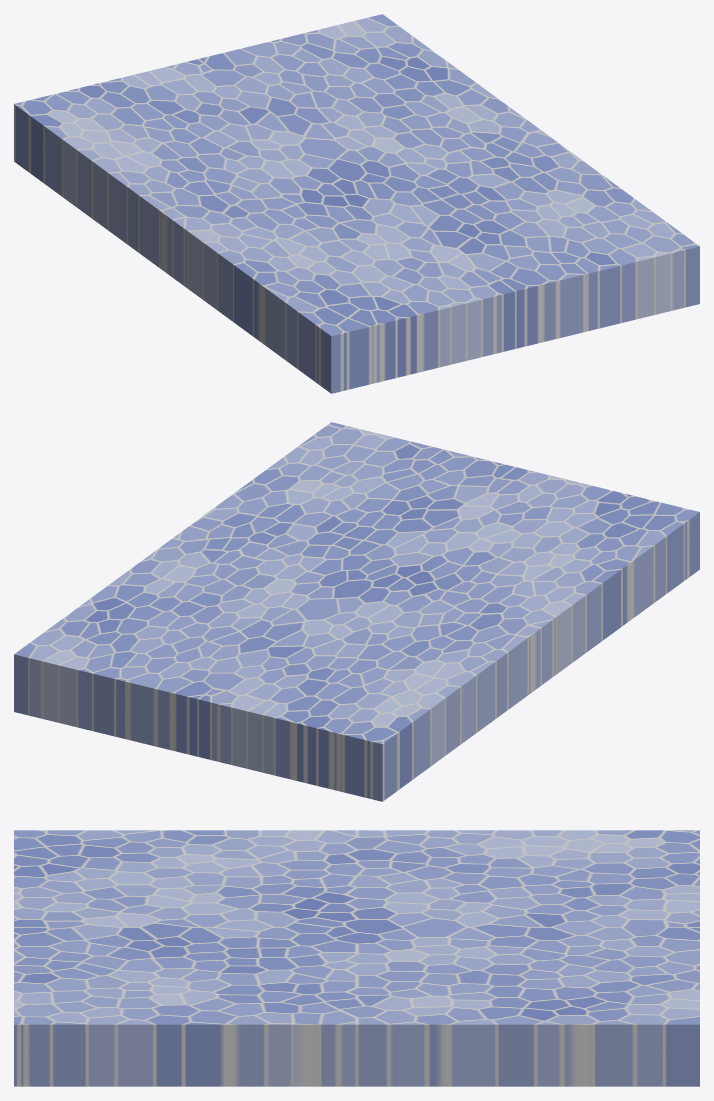
Rendered from ground.fbx.
3 views of the same model, one above another, from view 1: azimuth 30°, elevation 25°; view 2: azimuth 150°, elevation 25°; view 3: azimuth 270°, elevation 25° (orthographic). The views are drawn at different scales.
Parts seen in each view (by area): view 1: ground; view 2: ground; view 3: ground.
Boxes of the visible parts, bbox=[...] form: ground: bbox=[14, 14, 699, 393]; ground: bbox=[14, 422, 699, 801]; ground: bbox=[14, 830, 699, 1086].
Bounding box in the file's own units: 3352 × 500 × 5000.
